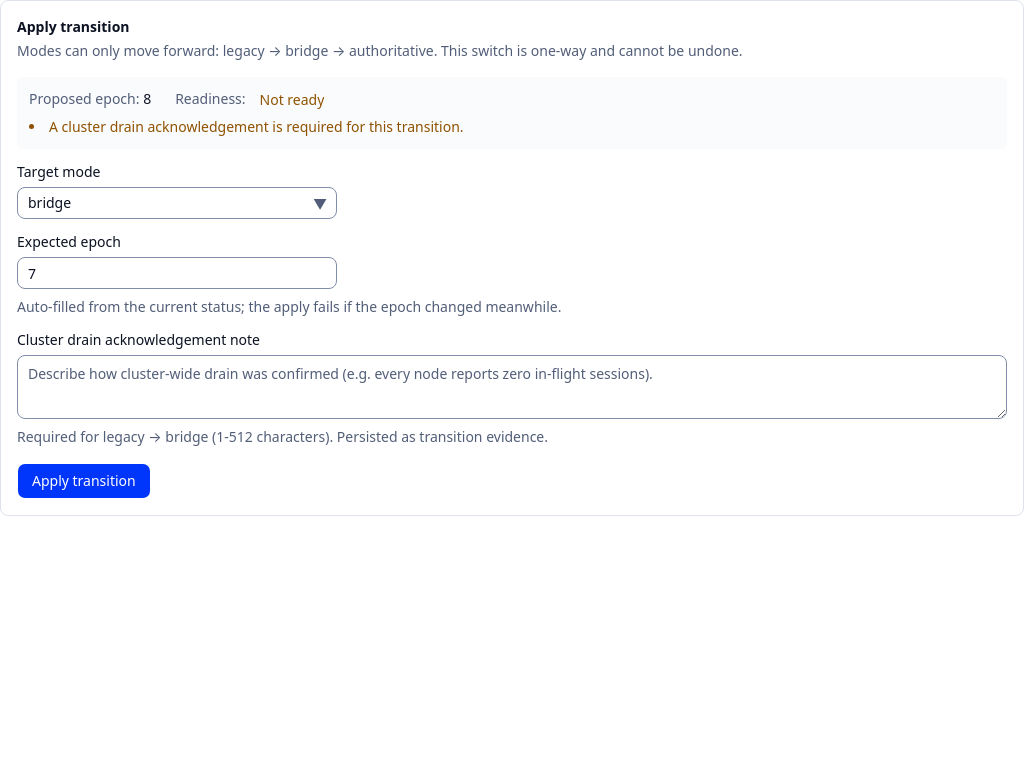
Test: ApplyTransitionCard › shows the one-way irreversibility warning before applying
The image size is (1024, 768).
Step 1. Type "all drained" into the text box with placeholder "Describe how cluster-wide drain was confirmed (e.g. every node reports zero in-flight sessions)." → [512, 387], box [17, 355, 1007, 419]
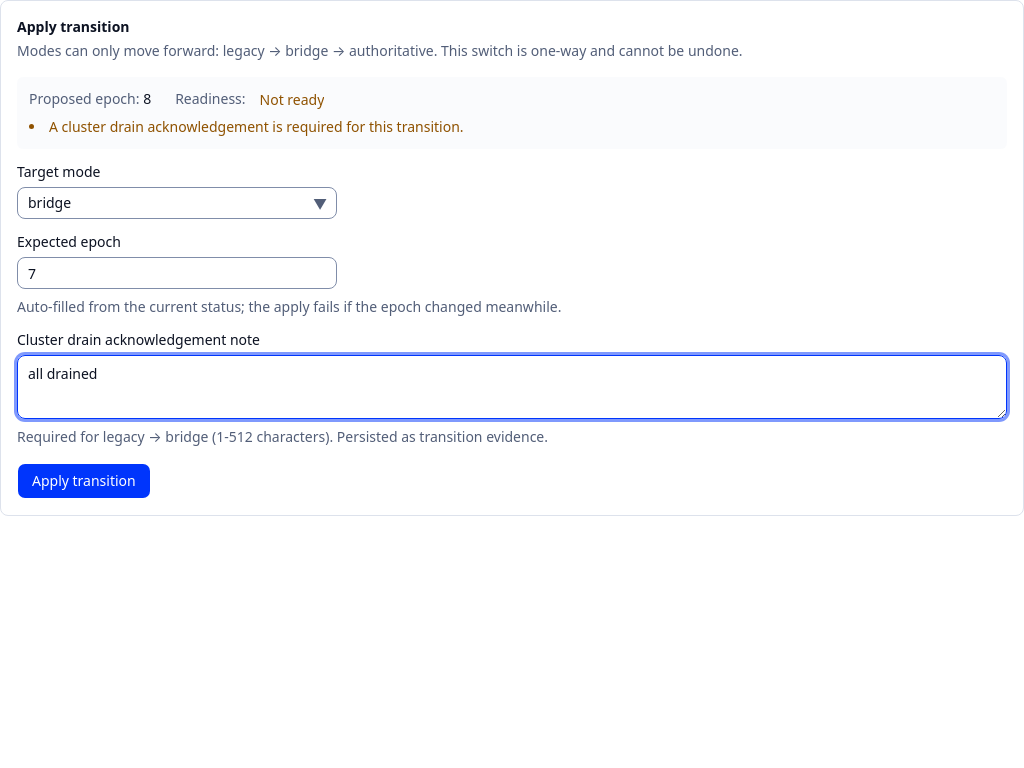
Step 2. Click the button "Apply transition" → [84, 481], box [17, 463, 151, 499]
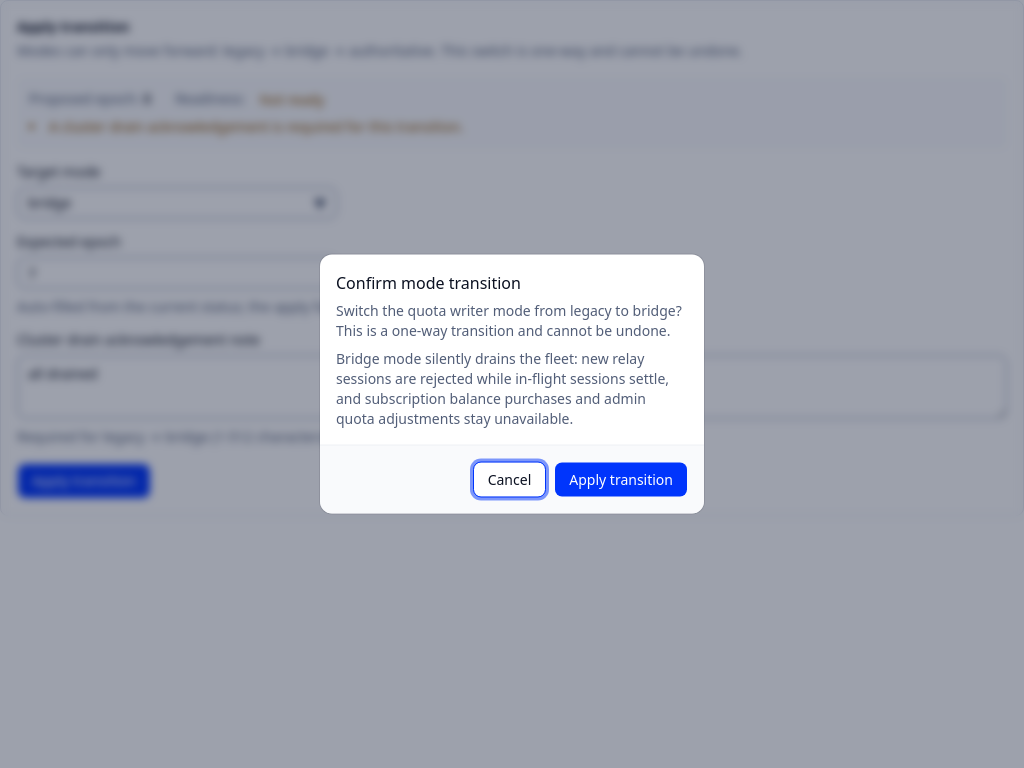
Expected: the dialog shows "one-way transition and cannot be undone", [336, 300, 682, 340]
Expected: the dialog shows "from legacy to bridge", [336, 300, 682, 340]
